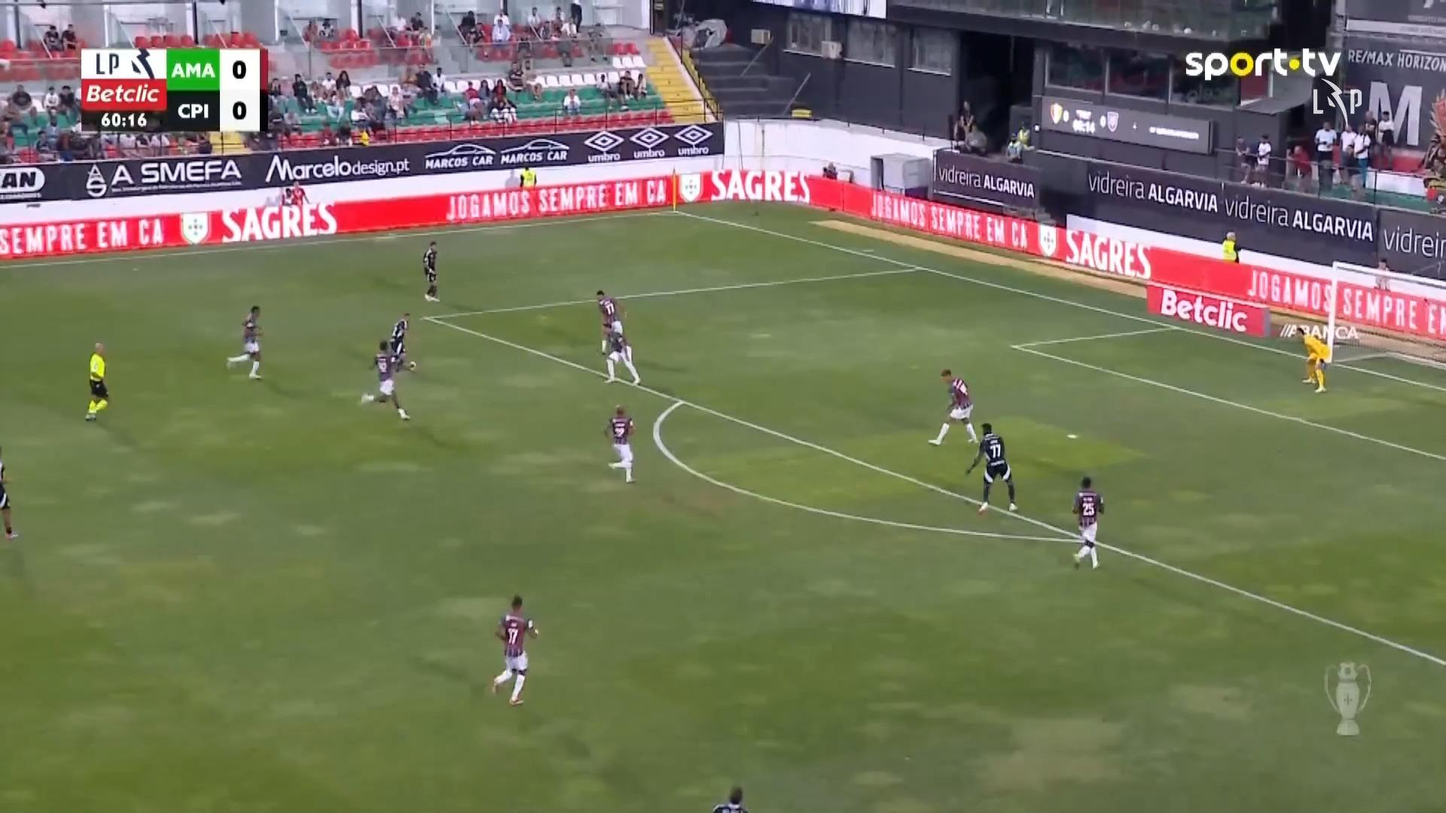ball: (406, 360, 416, 371)
goalkeeper: (1295, 324, 1332, 393)
player: (490, 593, 538, 705), (965, 422, 1017, 514), (359, 339, 415, 420), (927, 367, 979, 446), (1070, 475, 1104, 569), (225, 305, 264, 379), (603, 403, 636, 483), (602, 318, 641, 385), (0, 446, 18, 539), (595, 288, 619, 355), (388, 311, 412, 370), (422, 240, 441, 302), (712, 784, 749, 811)
referee: (84, 341, 109, 421)
